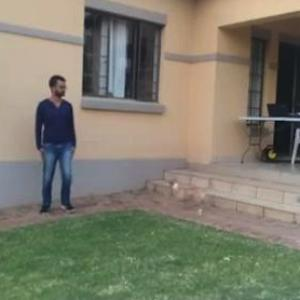follow: (49, 81, 90, 217)
